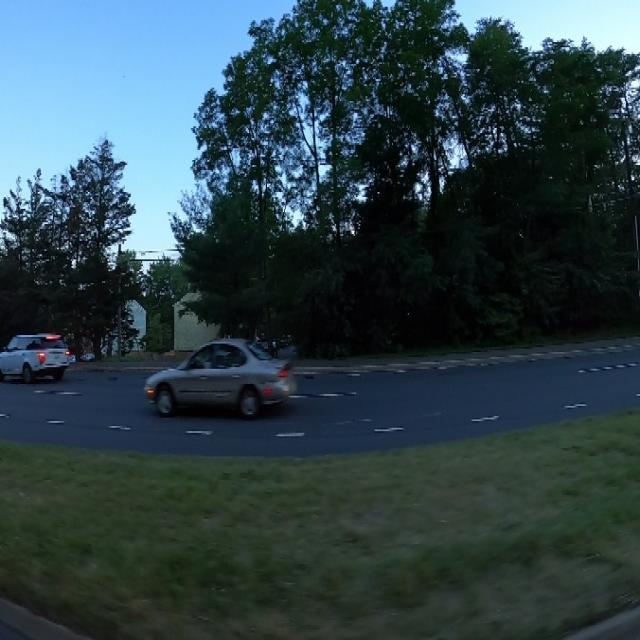cars: (136, 329, 298, 435), (0, 321, 73, 388)
